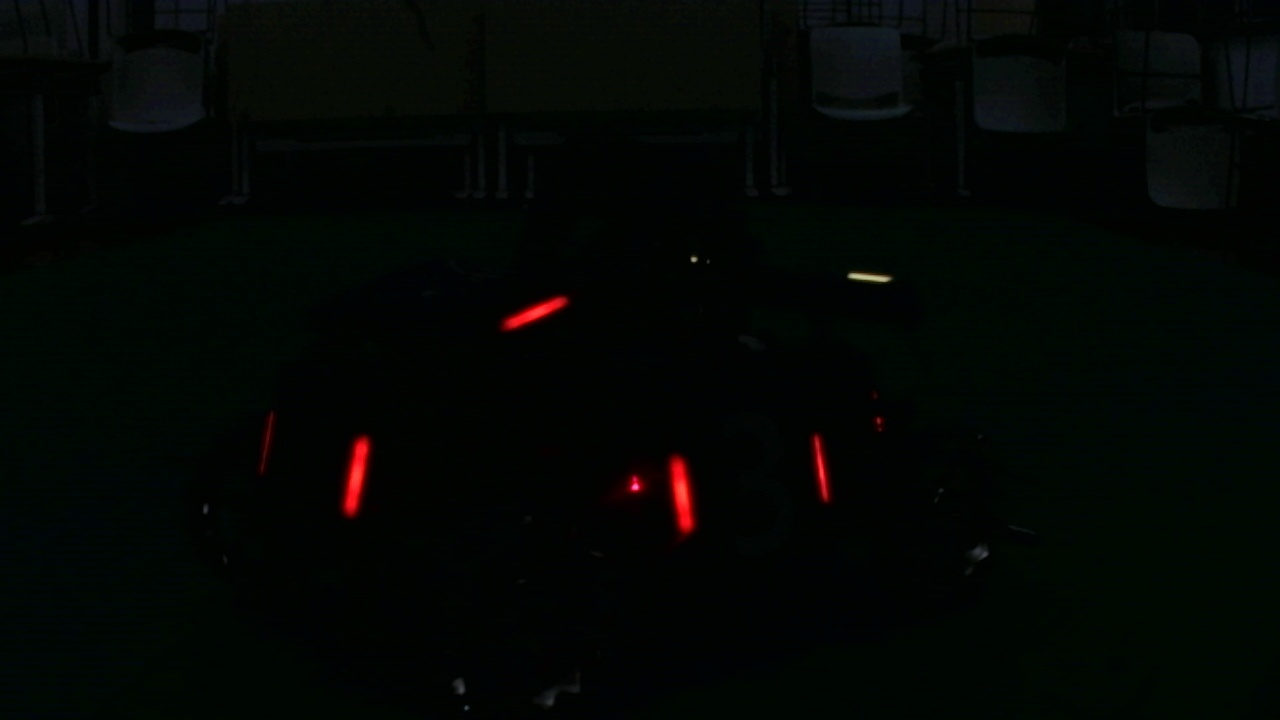lamp: (340, 433, 371, 517), (669, 449, 699, 534), (810, 426, 830, 502)
notpair1: (340, 434, 699, 533)
pair1: (672, 432, 831, 534)
